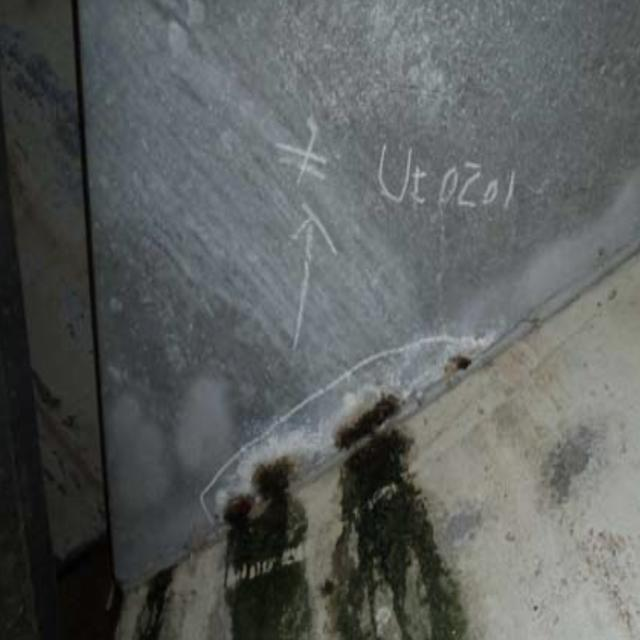leakage: (213, 397, 451, 640)
